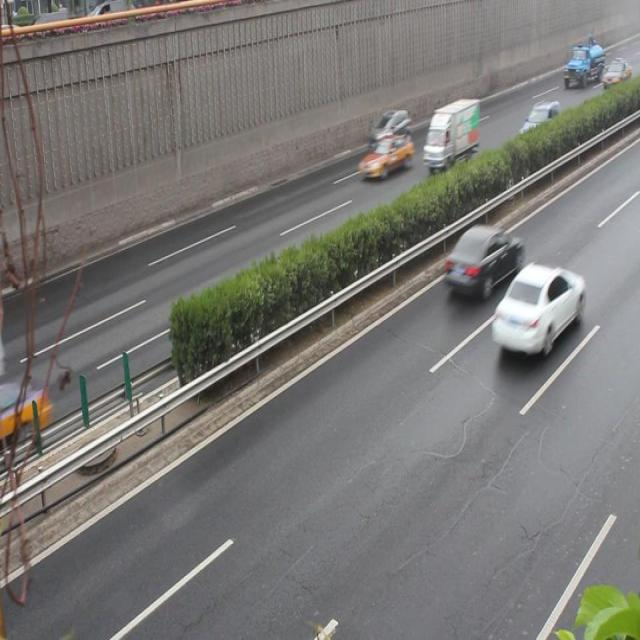car: (488, 260, 582, 356), (442, 223, 522, 294), (0, 375, 53, 443), (357, 134, 410, 178), (516, 100, 561, 144), (368, 107, 409, 147), (599, 56, 627, 85)
